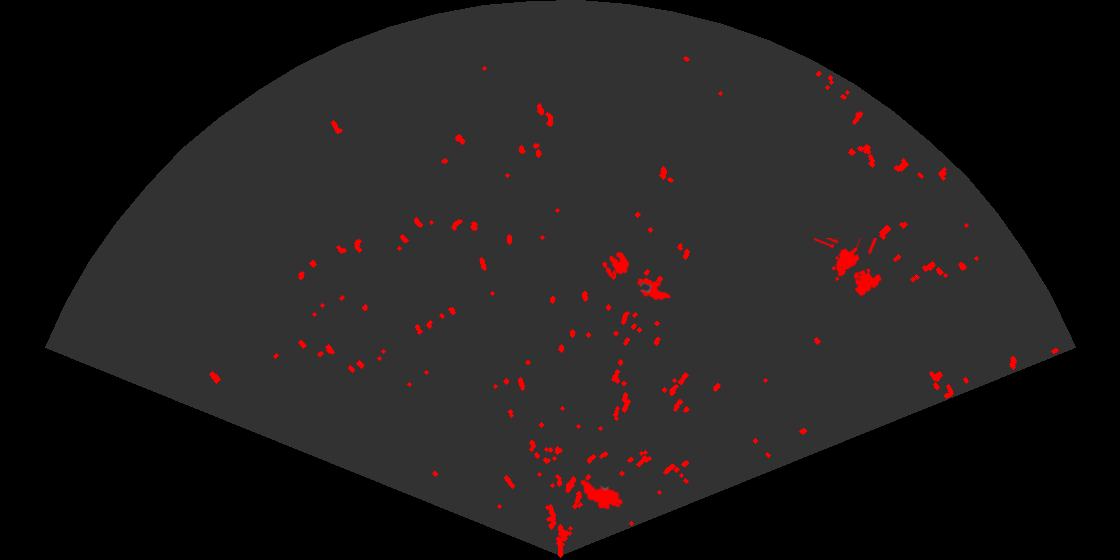AUV: (579, 478, 625, 511), (635, 276, 673, 302)
ball: (600, 250, 631, 279)
cage: (814, 238, 884, 298)
